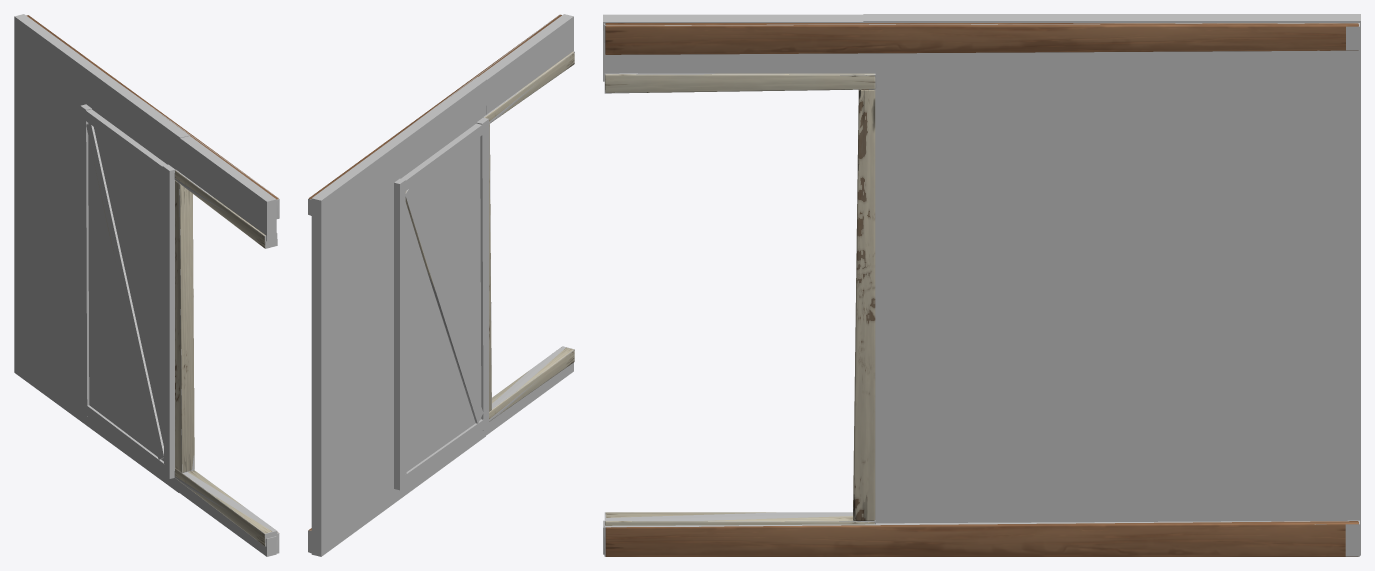
The model's file is SM_Hangar01WW_7.fbx.
3 renders of one model, left to right at view 1: azimuth 30°, elevation 25°; view 2: azimuth 150°, elevation 25°; view 3: azimuth 270°, elevation 25°, orthographic. The views are drawn at different scales.
Visible parts, largest first — view 1: SM_Hangar01WW_7_ConvexHulls, SM_Hangar01WW_7; view 2: SM_Hangar01WW_7_ConvexHulls, SM_Hangar01WW_7; view 3: SM_Hangar01WW_7_ConvexHulls, SM_Hangar01WW_7.
Boxes of the visible parts, box(x1,y1,x2,y2) form: SM_Hangar01WW_7_ConvexHulls: box(14, 14, 279, 556); SM_Hangar01WW_7: box(26, 15, 278, 545); SM_Hangar01WW_7_ConvexHulls: box(308, 14, 574, 556); SM_Hangar01WW_7: box(308, 15, 574, 530); SM_Hangar01WW_7_ConvexHulls: box(603, 14, 1360, 556); SM_Hangar01WW_7: box(605, 23, 1358, 556).
Bounding box in the file's own units: 20.59 × 452 × 352.
Materials: 4 (3 with a texture image).
